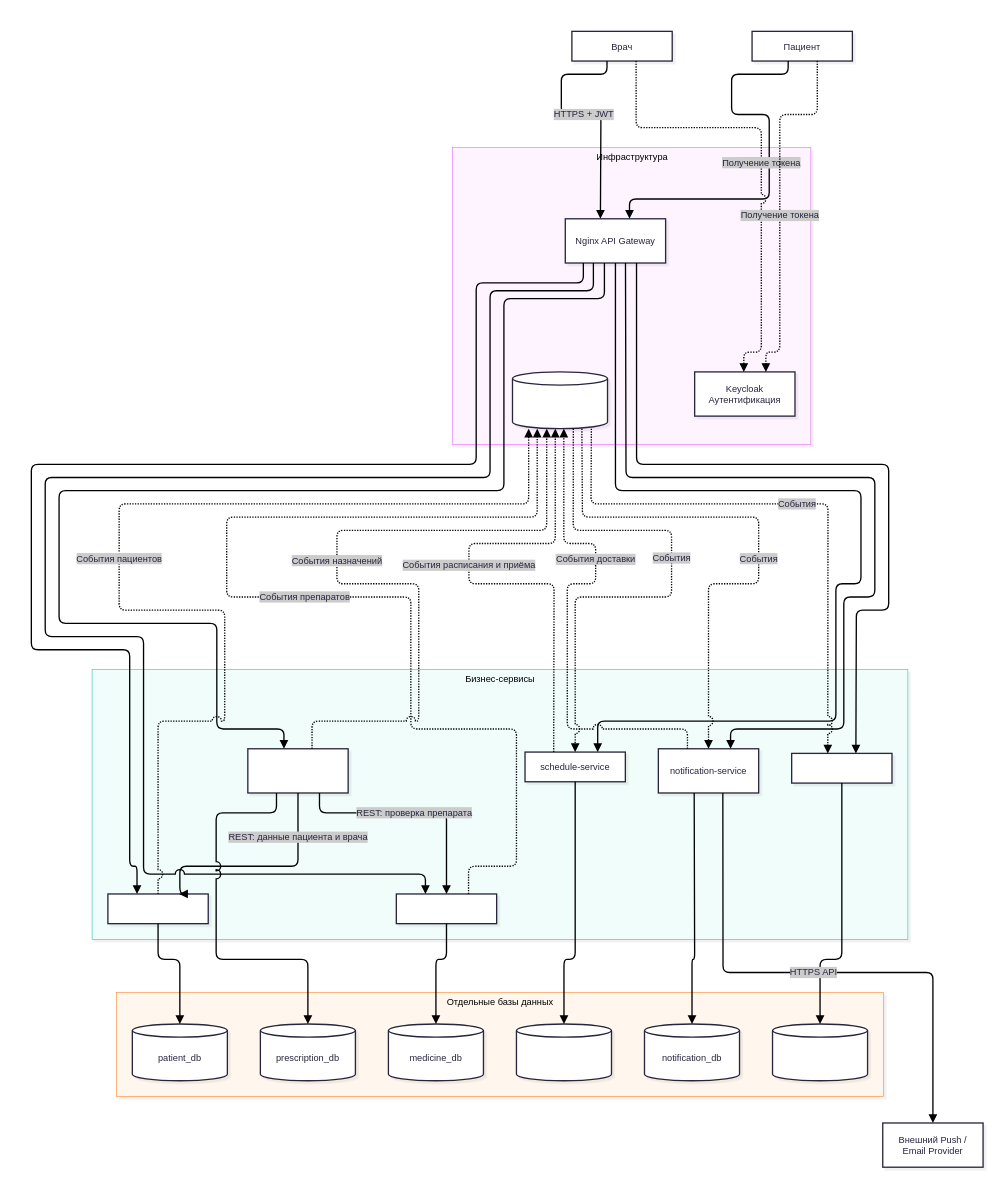
Some shapes in this 997 by 1181 pixel diagram are drawn without their labels. Each missing label, with the centre of its shape:
"Apache Kafka" belongs at point 561,401.
"medicine-service" belongs at point 447,910.
"patient-service" belongs at point 159,910.
"prescription-service" belongs at point 299,772.
"report-service" belongs at point 843,769.
"report_db" belongs at point 821,1053.
"schedule_db" belongs at point 564,1053.
